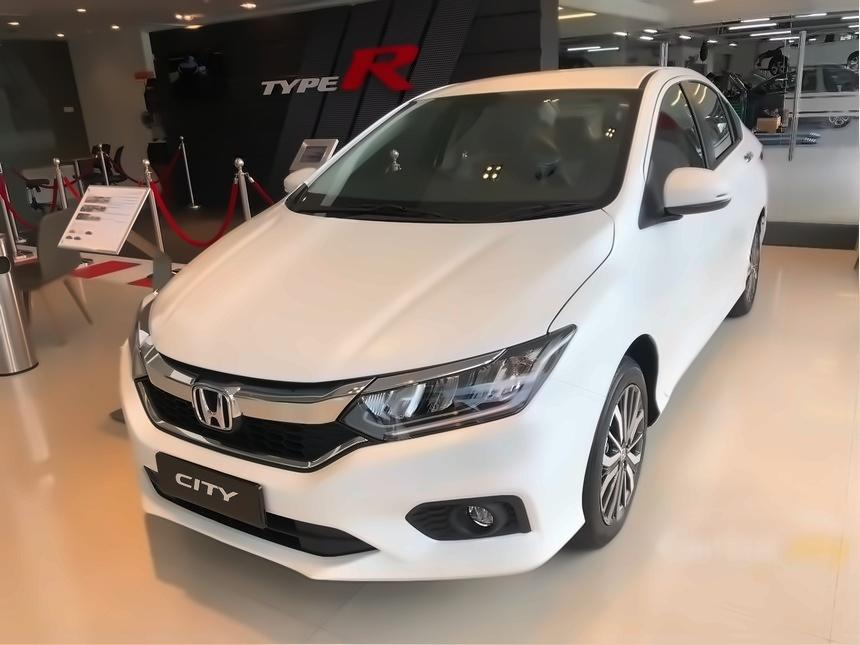Car hood: (146, 198, 618, 384)
Fender - -F-L-: (537, 201, 675, 447)
Front bumper: (116, 350, 591, 586)
Headlight - -L-: (342, 325, 576, 446)
Headlight - -R-: (125, 288, 160, 382)
Passenger-s door - -F-L-: (635, 60, 742, 430)
Passenger-s door - -R-L-: (676, 56, 788, 348)
Side bumper - -L-: (649, 266, 751, 452)
Side mirror - -L-: (634, 168, 735, 229)
Side mirror - -R-: (279, 164, 317, 197)
